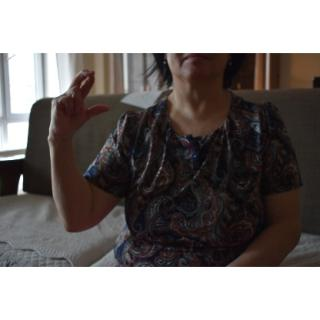DHELL: (45, 60, 115, 152)
